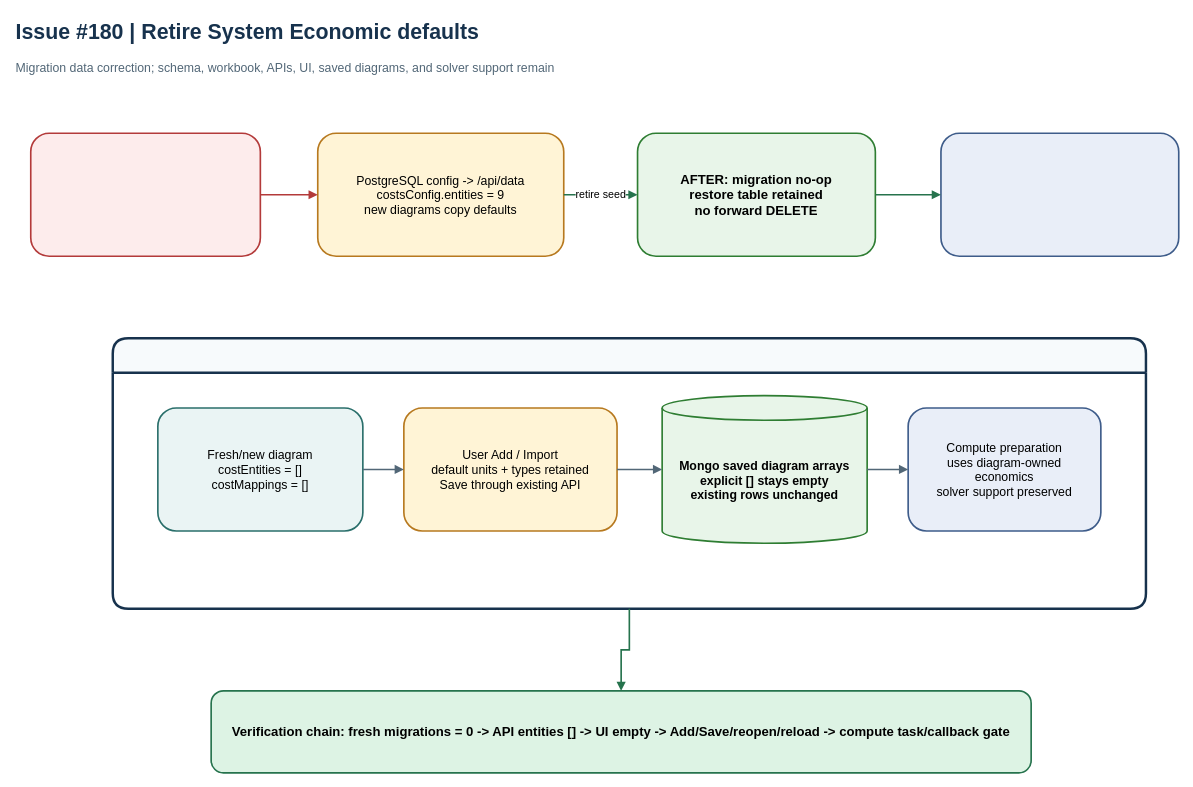
This 1193x787 diagram has some shape labels left out. The box of each missing label's shape, as (x1, y1, x2, y2) in pixels:
BEFORE: historical seed INSERT ... ON CONFLICT 9 System rows: (30, 132, 261, 257)
Fresh PostgreSQL CostEntitiesConfig = 0 entities = [] + option sets: (940, 132, 1179, 257)
OWNERSHIP BOUNDARY: (111, 337, 1147, 610)
